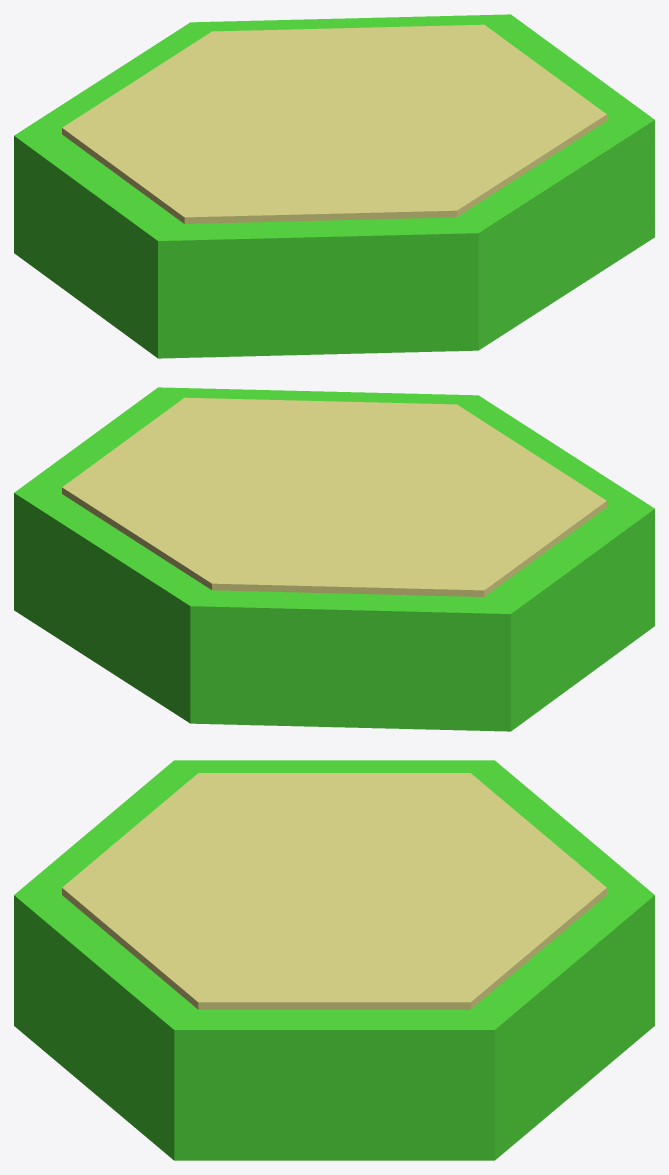
The model's file is gras_hexagon.fbx.
The picture shows the model from 3 angles, top to bottom: view 1: azimuth 30°, elevation 25°; view 2: azimuth 150°, elevation 25°; view 3: azimuth 270°, elevation 25°; orthographic projection. The views are drawn at different scales.
Parts seen in each view (by area): view 1: green_hexagon.001; view 2: green_hexagon.001; view 3: green_hexagon.001.
Boxes of the visible parts, x1,y1,x2,y2 form: green_hexagon.001: (14, 14, 654, 358); green_hexagon.001: (14, 387, 654, 731); green_hexagon.001: (14, 760, 654, 1160).
Size of the model in its own units: 199 by 47.56 by 200.
